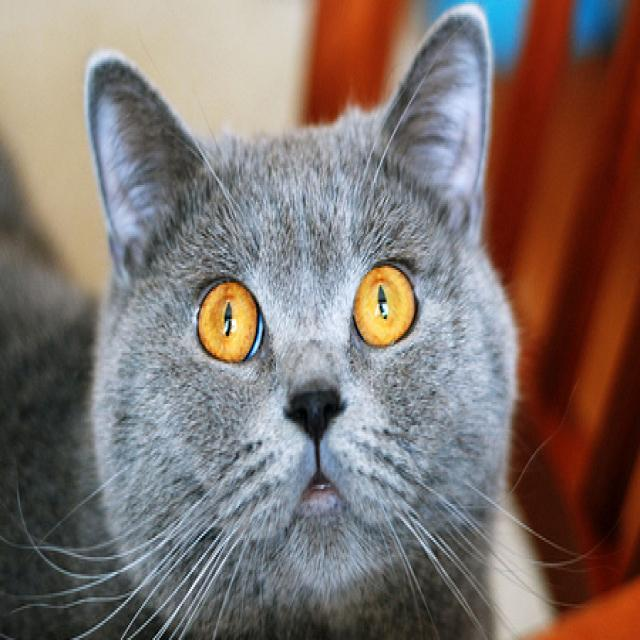British Shorthair: (0, 0, 523, 640)
